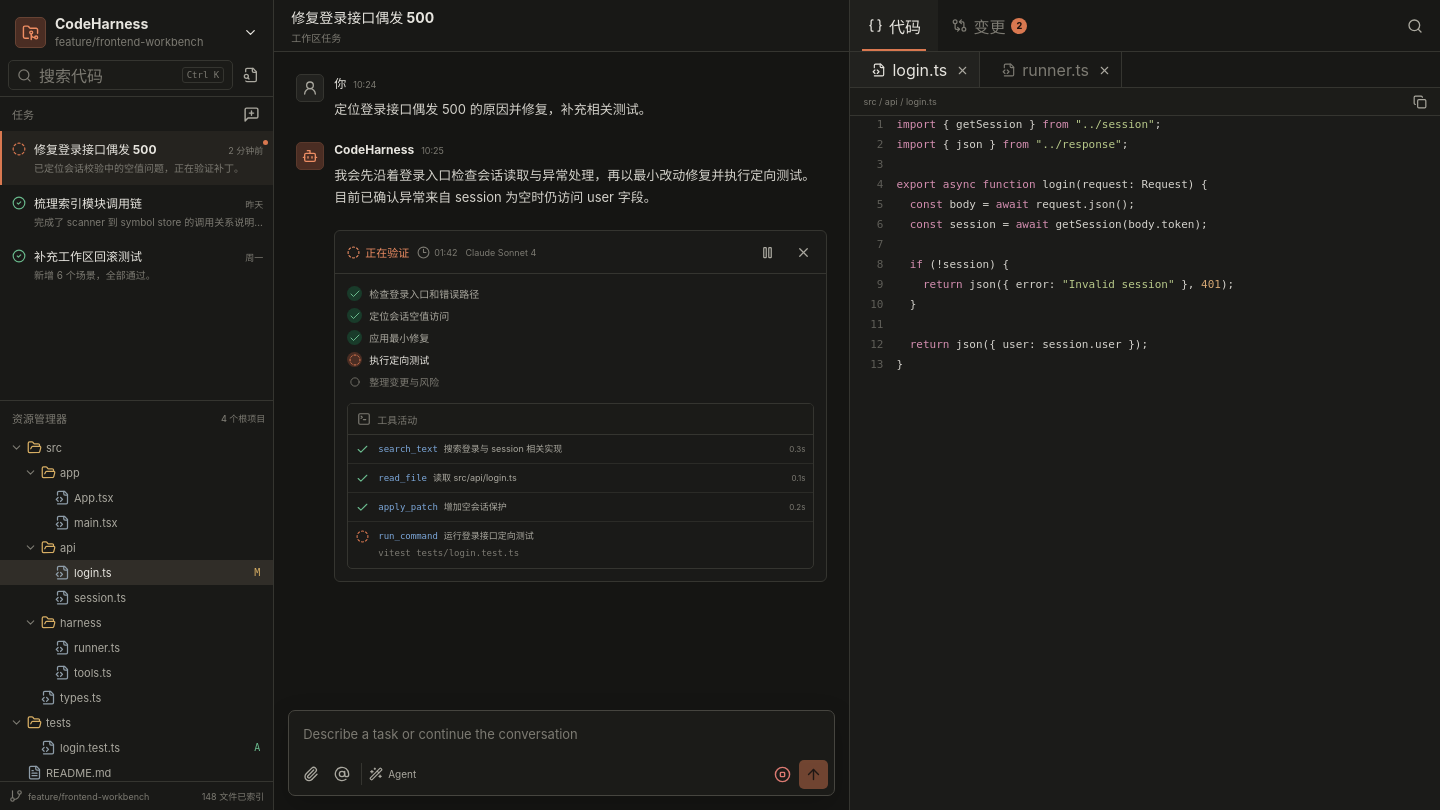
Test: CodeHarness workbench › opens the selected search result at its matching line
This screenshot has width=1440, height=810.
Expected: the heading "修复登录接口偶发 500" is shown, top-left (291, 6), bottom-right (434, 26)
Click the button named "搜索代码": {"x": 1415, "y": 26} top-left (1398, 8), bottom-right (1432, 42)
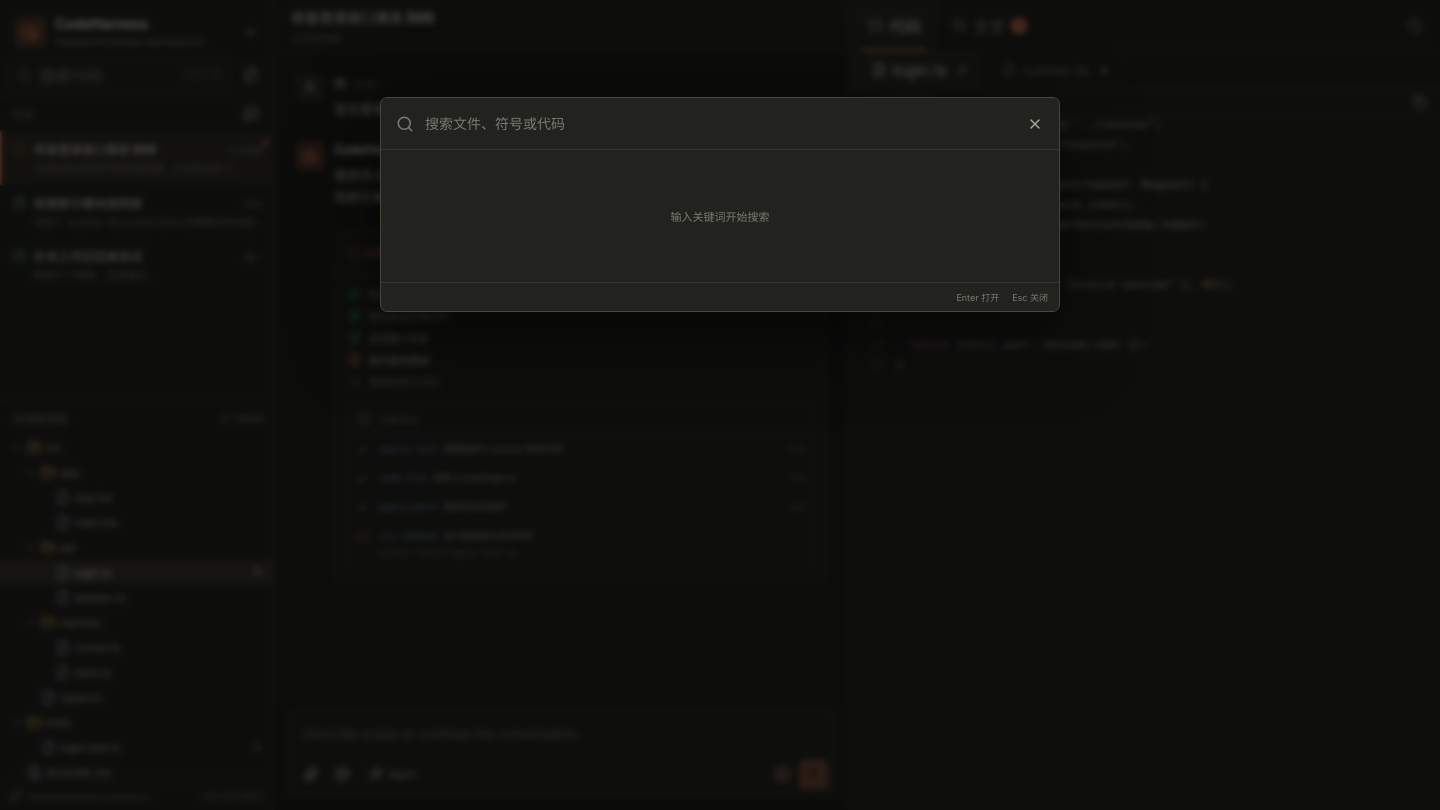
In the field with placeholder "搜索文件、符号或代码": {"x": 718, "y": 124} top-left (423, 99), bottom-right (1012, 149), type "runTask"
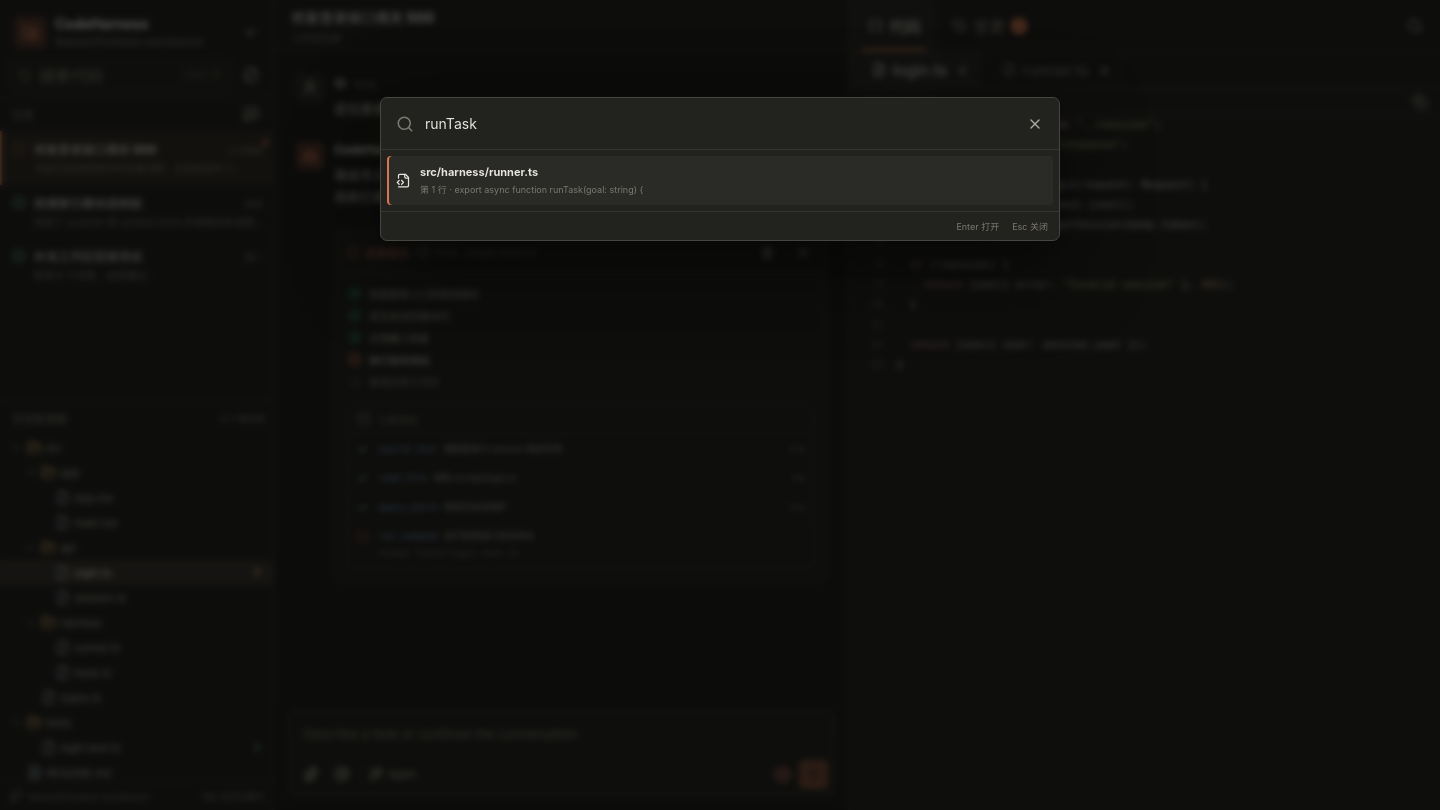
Result: the text "src/harness/runner.ts" is shown at top-left (420, 165), bottom-right (538, 179)
Press Enter
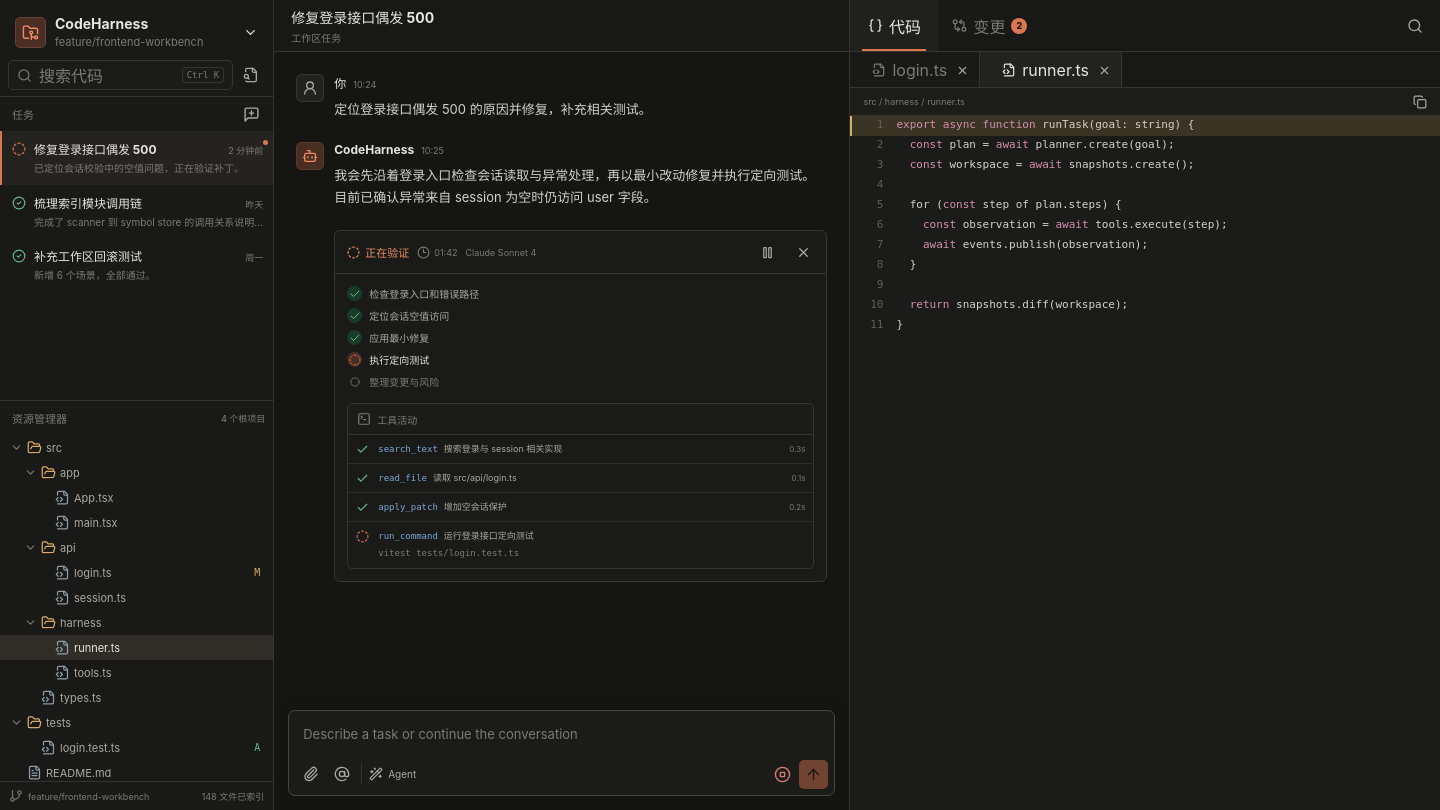
Result: the text "src / harness / runner.ts" is shown at top-left (863, 96), bottom-right (965, 107)
Result: the row with class "code-row--highlighted" is shown at top-left (850, 116), bottom-right (1439, 136)
